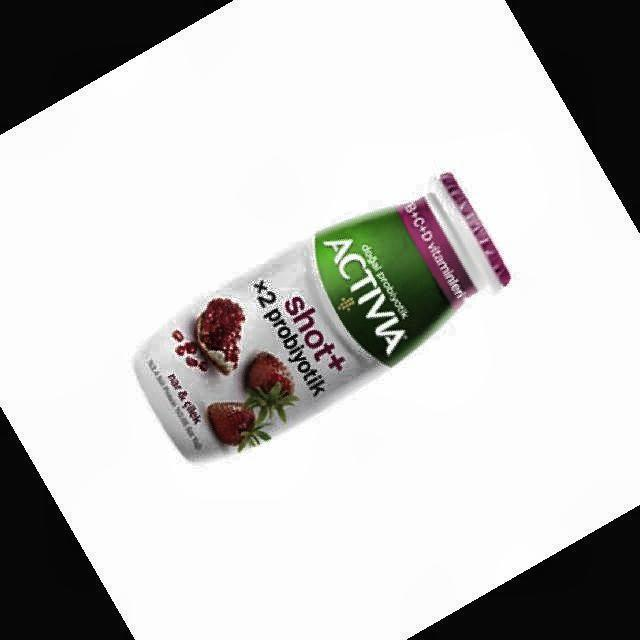plastic: (135, 174, 510, 461)
